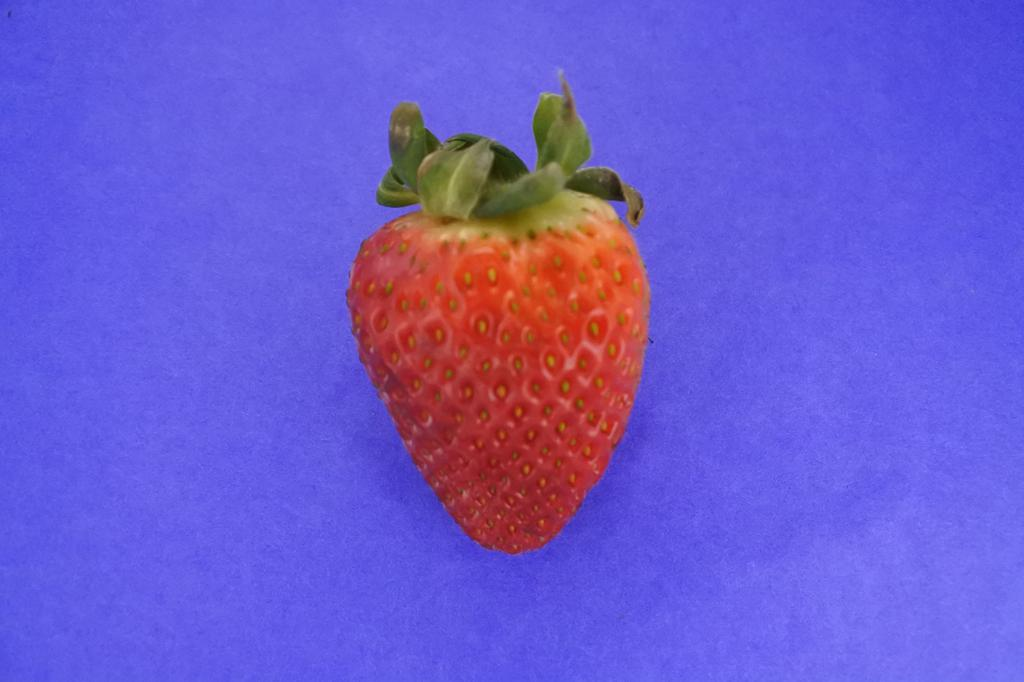red strawberry: (347, 81, 651, 554)
